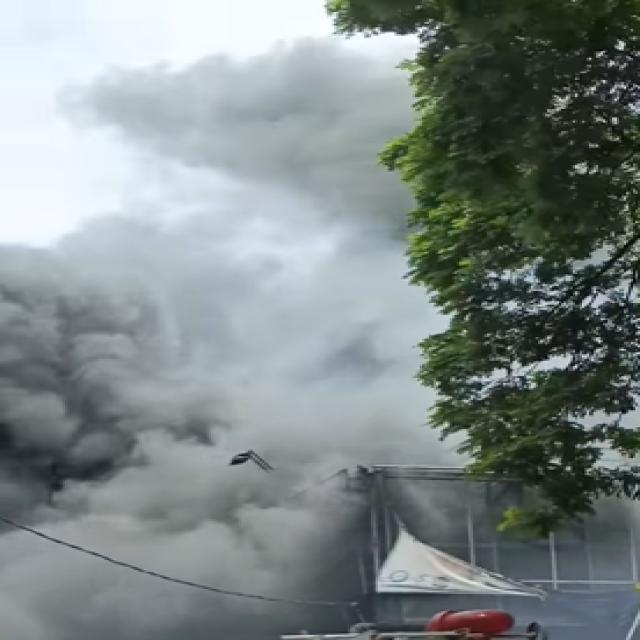Smoke: (0, 245, 362, 637)
